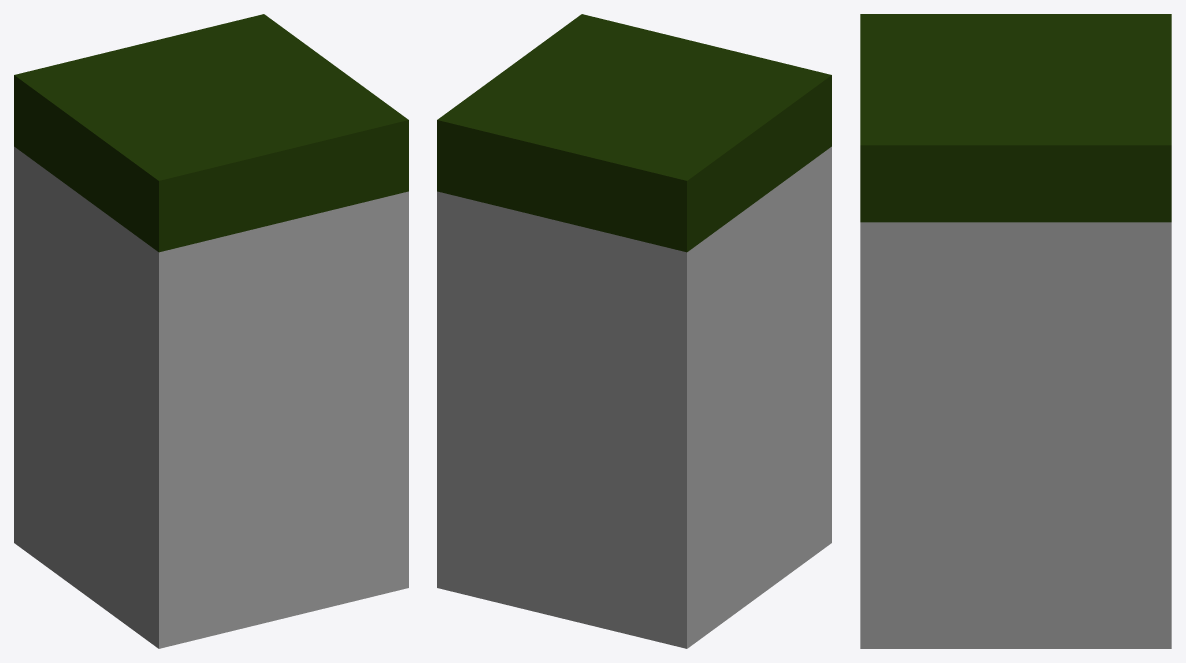
The model's file is piatt da sotto.fbx.
The picture shows the model from 3 angles, left to right: view 1: azimuth 30°, elevation 25°; view 2: azimuth 150°, elevation 25°; view 3: azimuth 270°, elevation 25°; orthographic projection. The views are drawn at different scales.
Parts seen in each view (by area): view 1: pCube1; view 2: pCube1; view 3: pCube1.
Part boxes in pixels (box(x1,y1,x2,y2)): pCube1: box(14, 14, 408, 648); pCube1: box(437, 14, 831, 648); pCube1: box(860, 14, 1171, 648).
Size of the model in its own units: 4 by 7.16 by 4.01.
